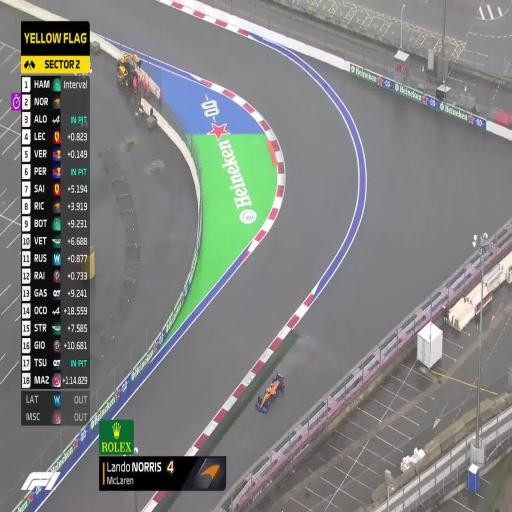f1_car: (255, 373, 285, 412)
